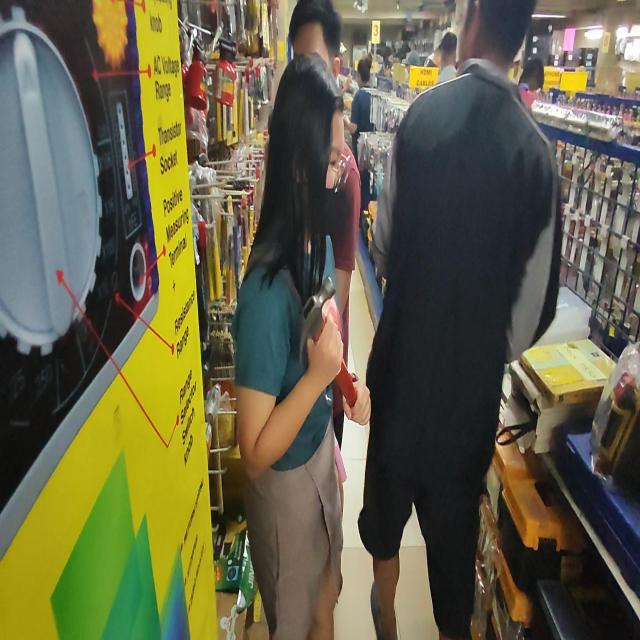hammer: (298, 275, 358, 407)
